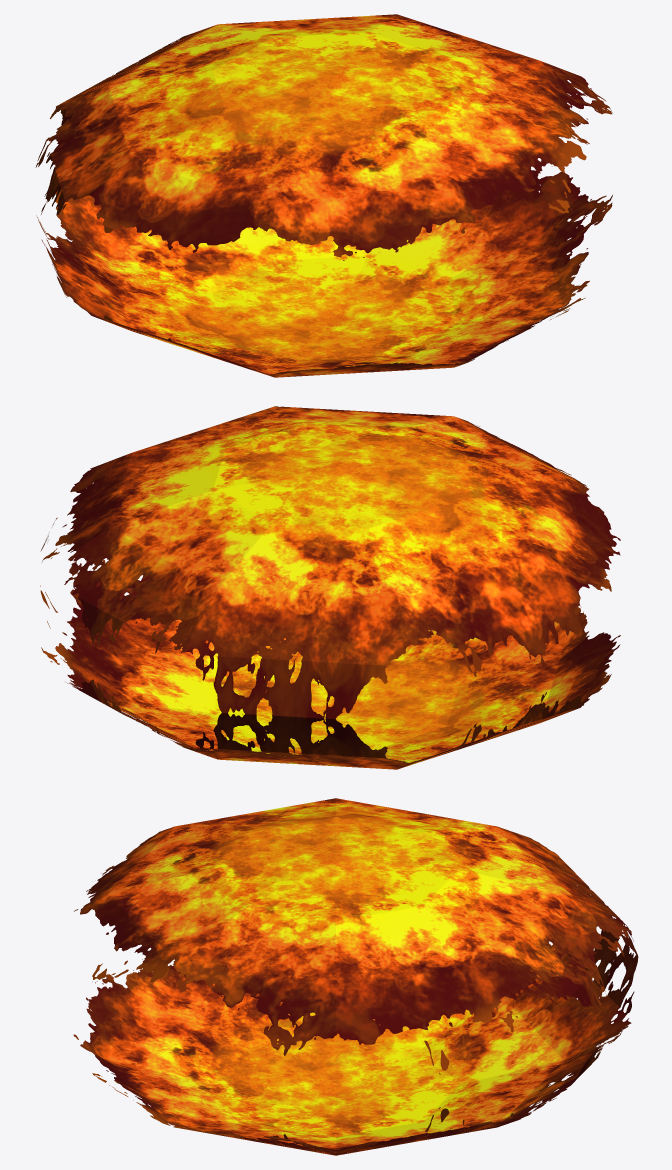
Rendered from Explosion.obj.
3 views of the same model, one above another, from view 1: azimuth 30°, elevation 25°; view 2: azimuth 150°, elevation 25°; view 3: azimuth 270°, elevation 25° (orthographic). The views are drawn at different scales.
Visible parts, largest first — view 1: Sphere; view 2: Sphere; view 3: Sphere.
Part boxes in pixels (x1=…): Sphere: x1=35, y1=14, x2=612, y2=377; Sphere: x1=40, y1=406, x2=620, y2=769; Sphere: x1=73, y1=798, x2=638, y2=1155.
Size of the model in its own units: 2 by 0.8 by 2.
